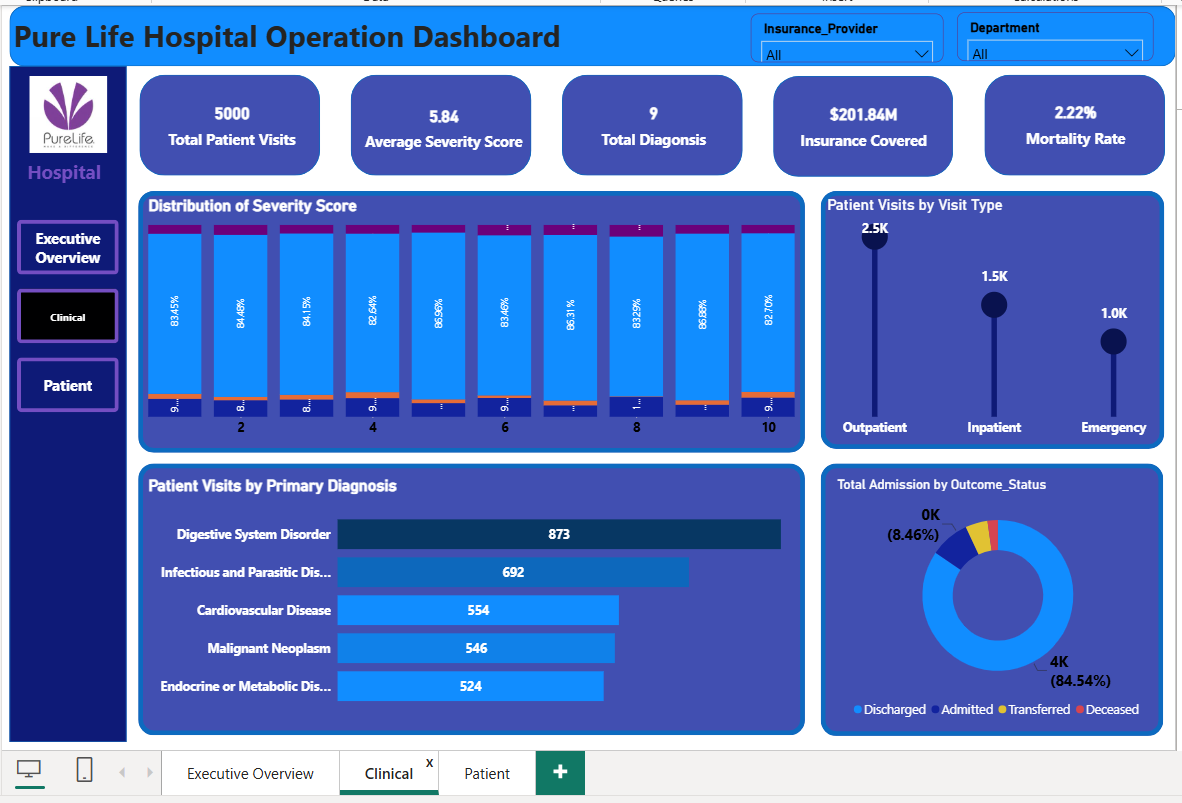

This screenshot's page, from the dashboard's own definition file:
{"tool":"powerbi","page":{"name":"Clinical ","canvas":[1500,950],"ordinal":1},"visuals":[{"type":"group","id":"g1","title":"Group 3","box":[175.3,88.4,1312.2,130.3],"z":0},{"type":"shape","box":[175.3,88.4,230.8,128.9],"z":0,"group":"g2"},{"type":"shape","box":[985.9,90.1,230,128.6],"z":0,"group":"g1"},{"type":"shape","box":[9.6,0,1490.7,77.2],"z":1000},{"type":"shape","box":[715.7,88.4,230.8,128.9],"z":1000,"group":"g1"},{"type":"textbox","box":[9.6,8,1490,62.1],"z":2000},{"type":"group","id":"g2","title":"Group 1","box":[175.3,88.4,230.8,128.9],"z":2000,"group":"g1"},{"type":"shape","box":[9.6,76.4,149.6,864.4],"z":3000},{"type":"shape","box":[173.7,585.3,852.3,347.3],"z":4000},{"type":"shape","box":[1046.6,584.8,437.8,348.3],"z":5000},{"type":"shape","box":[445.5,88.4,230.8,128.9],"z":6000,"group":"g1"},{"type":"shape","box":[1046.9,236.4,439,329.7],"z":6000},{"type":"shape","box":[173.7,236.4,852.3,334.5],"z":7000},{"type":"group","id":"g3","title":"Group 2","box":[19.1,89.1,130.5,429.8],"z":8000},{"type":"barChart","title":"Patient Visits by Primary Diagnosis","fields":{"Category":["Dm_Diagnosis.Primary_Diagnosis_Description"],"Y":["Calculated Measures.Total Admission"]},"box":[181.7,601.4,836.2,313.6],"z":9000},{"type":"hundredPercentStackedColumnChart","title":"Distribution of Severity Score","fields":{"Category":["Visit_Fact.Severity_Score"],"Y":["CountNonNull(Visit_Fact.Visit_ID)"],"Series":["Visit_Fact.Outcome_Status"]},"box":[181.7,242.8,836.2,318.4],"z":10000},{"type":"group","id":"g4","title":"Group 4","box":[178.5,90.1,1305.8,123.8],"z":11000},{"type":"lineChart","title":"Patient Visits by Visit Type","fields":{"Y":["Calculated Measures.Total Admission"],"Category":["Visit_Fact.Visit_Type"]},"box":[1050.1,242.8,437.4,318.4],"z":12000},{"type":"donutChart","fields":{"Y":["Calculated Measures.Total Admission"],"Category":["Visit_Fact.Outcome_Status"]},"box":[1062.9,601.4,421.3,318.4],"z":13000},{"type":"slicer","fields":{"Values":["Dm_Doctor.Department"]},"box":[1220.9,8,251.5,62.1],"z":15000},{"type":"slicer","fields":{"Values":["Visit_Fact.Insurance_Provider"]},"box":[956.7,9.6,246.7,62.1],"z":16000},{"type":"card","fields":{"Values":["Calculated Measures.Total Patient Visits"]},"box":[178.5,90.1,230,120.6],"z":16000,"group":"g4"},{"type":"image","box":[19.1,89.1,130.5,98.7],"z":18000,"group":"g3"},{"type":"card","fields":{"Values":["Calculated Measures.Average Severity Score"]},"box":[448.7,93.3,231.6,120.6],"z":18000,"group":"g4"},{"type":"card","fields":{"Values":["Calculated Measures.Total Diagonsis"]},"box":[717.2,90.1,231.6,120.6],"z":19000,"group":"g4"},{"type":"textbox","box":[27.1,189.4,114.6,46.2],"z":19000,"group":"g3"},{"type":"card","fields":{"Values":["Calculated Measures.Insurance Covered Amount"]},"box":[998.6,91.7,205.8,120.6],"z":20000,"group":"g4"},{"type":"pageNavigator","box":[19.1,272.2,130.5,246.7],"z":21000,"group":"g3"},{"type":"shape","box":[1255.2,88.4,230.8,128.9],"z":27000,"group":"g1"},{"type":"card","fields":{"Values":["Calculated Measures.Mortality Rate"]},"box":[1260.7,91.7,223.5,115.8],"z":28000,"group":"g4"}]}

Visuals, with their boxes on the page's 1500x950 design canvas (x1, y1, x2, y2). These are canvas units, not pixel positions in the 1182x803 screenshot, which may show the page scaled, cropped or inside an application window:
"Group 3" group: bbox=(175, 88, 1488, 219)
shape: bbox=(175, 88, 406, 217)
shape: bbox=(986, 90, 1216, 219)
shape: bbox=(10, 0, 1500, 77)
shape: bbox=(716, 88, 946, 217)
textbox: bbox=(10, 8, 1500, 70)
"Group 1" group: bbox=(175, 88, 406, 217)
shape: bbox=(10, 76, 159, 941)
shape: bbox=(174, 585, 1026, 933)
shape: bbox=(1047, 585, 1484, 933)
shape: bbox=(446, 88, 676, 217)
shape: bbox=(1047, 236, 1486, 566)
shape: bbox=(174, 236, 1026, 571)
"Group 2" group: bbox=(19, 89, 150, 519)
"Patient Visits by Primary Diagnosis" barChart: bbox=(182, 601, 1018, 915)
"Distribution of Severity Score" hundredPercentStackedColumnChart: bbox=(182, 243, 1018, 561)
"Group 4" group: bbox=(178, 90, 1484, 214)
"Patient Visits by Visit Type" lineChart: bbox=(1050, 243, 1488, 561)
donutChart - Calculated Measures.Total Admission x Visit_Fact.Outcome_Status: bbox=(1063, 601, 1484, 920)
slicer - Dm_Doctor.Department: bbox=(1221, 8, 1472, 70)
slicer - Visit_Fact.Insurance_Provider: bbox=(957, 10, 1203, 72)
card - Calculated Measures.Total Patient Visits: bbox=(178, 90, 408, 211)
image: bbox=(19, 89, 150, 188)
card - Calculated Measures.Average Severity Score: bbox=(449, 93, 680, 214)
card - Calculated Measures.Total Diagonsis: bbox=(717, 90, 949, 211)
textbox: bbox=(27, 189, 142, 236)
card - Calculated Measures.Insurance Covered Amount: bbox=(999, 92, 1204, 212)
pageNavigator: bbox=(19, 272, 150, 519)
shape: bbox=(1255, 88, 1486, 217)
card - Calculated Measures.Mortality Rate: bbox=(1261, 92, 1484, 208)
